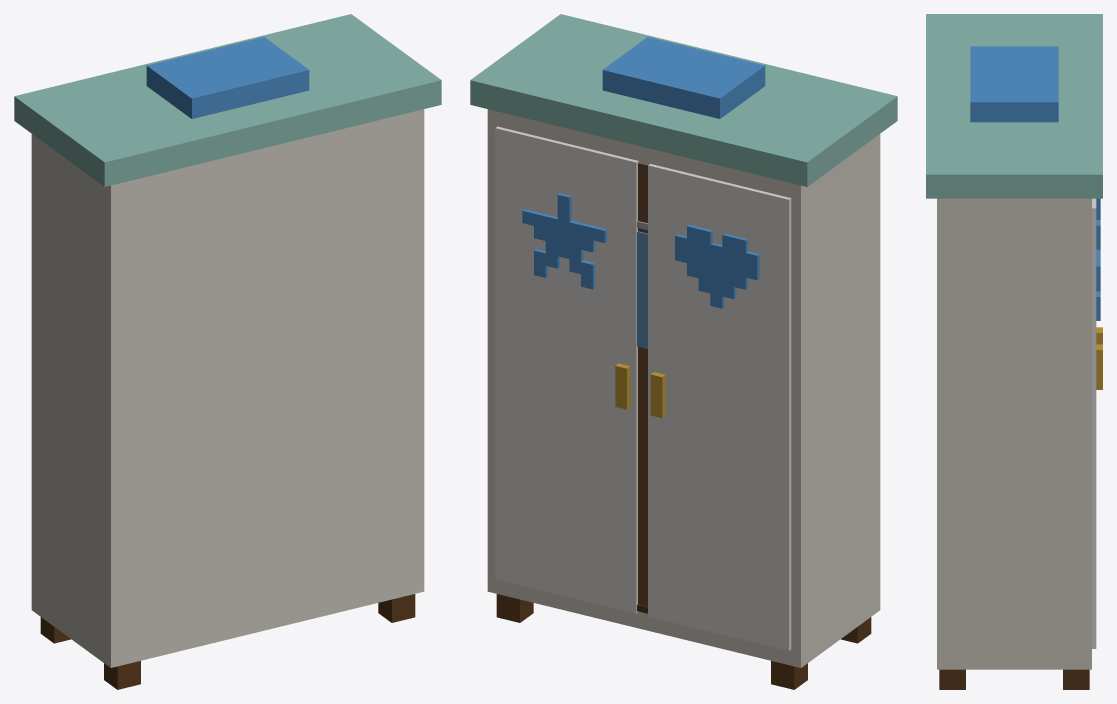
File: ncb-wardrobe-white.glb
The picture shows the model from 3 angles, left to right: view 1: azimuth 30°, elevation 25°; view 2: azimuth 150°, elevation 25°; view 3: azimuth 270°, elevation 25°; orthographic projection. The views are drawn at different scales.
Parts seen in each view (by area): view 1: box-prop; view 2: box-prop, part-door-left, part-door-right; view 3: box-prop, part-door-right.
Part boxes in pixels (x1,y1,x2,y2): box-prop: (14, 14, 441, 689); box-prop: (470, 14, 897, 689); part-door-left: (648, 164, 791, 650); part-door-right: (495, 126, 638, 613); box-prop: (926, 14, 1102, 689); part-door-right: (1092, 198, 1102, 648).
Size of the model in its own units: 1.72 by 2.72 by 0.8.
